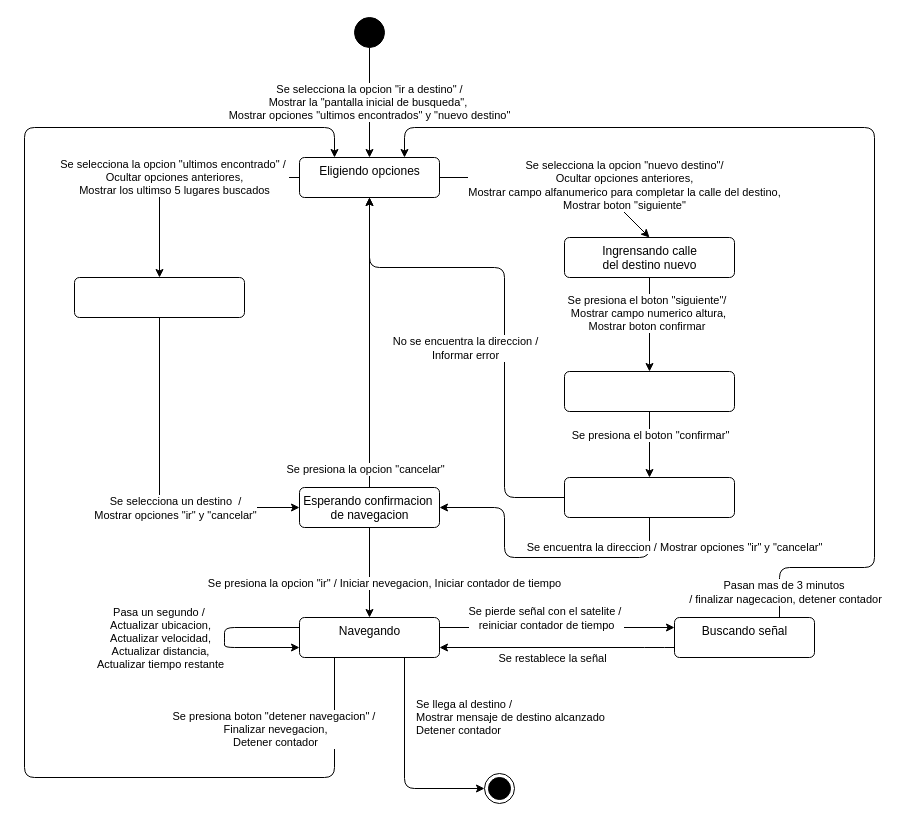
Some shapes in this 900 by 821 pixel diagram are drawn without their labels. Each missing label, with the centre of its shape:
"Buscando direccion" belongs at point (649, 497).
"Eligiendo destino" belongs at point (159, 297).
"Ingrensando altura del destino nuevo" belongs at point (649, 391).
